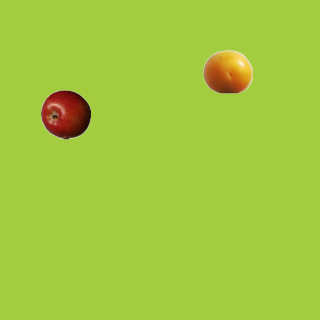Apple Braeburn: (40, 89, 90, 139)
Cherry Wax Yellow: (202, 46, 252, 96)
